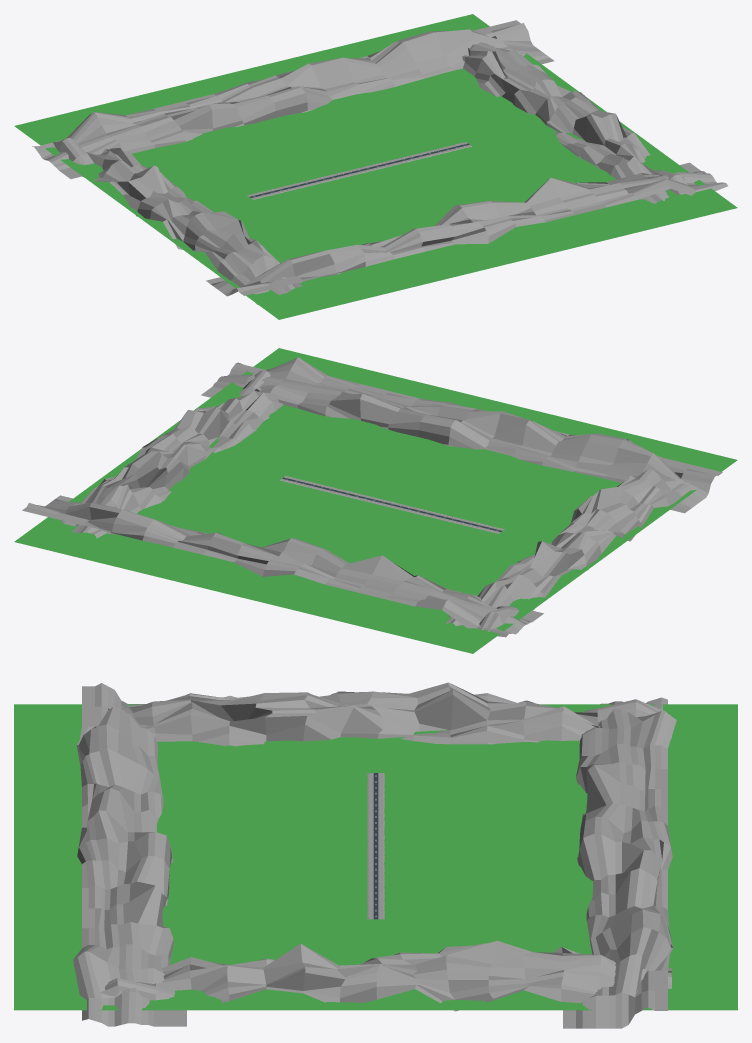
File: runway.glb
3 renders of one model, top to bottom at view 1: azimuth 30°, elevation 25°; view 2: azimuth 150°, elevation 25°; view 3: azimuth 270°, elevation 25°, orthographic. The views are drawn at different scales.
Parts seen in each view (by area): view 1: Grass, Rock2, Rock1, Rock3, Rock4, Runway; view 2: Grass, Rock1, Rock2, Rock4, Rock3, Runway; view 3: Grass, Rock1, Rock2, Rock4, Rock3, Runway.
Boxes of the visible parts, x1,y1,x2,y2 form: Grass: (14, 14, 737, 319); Rock2: (32, 20, 554, 178); Rock1: (206, 162, 727, 296); Rock3: (462, 42, 687, 203); Rock4: (51, 137, 302, 304); Runway: (247, 142, 471, 199); Grass: (14, 348, 737, 653); Rock1: (201, 357, 722, 513); Rock2: (22, 495, 543, 637); Rock4: (446, 469, 691, 631); Rock3: (60, 370, 283, 538); Runway: (280, 476, 504, 533); Grass: (14, 704, 737, 1010); Rock1: (73, 683, 186, 1026); Rock2: (563, 697, 676, 1028); Rock4: (120, 682, 671, 746); Rock3: (100, 940, 671, 1011); Runway: (367, 773, 384, 919).
Bounding box in the file's own units: 92.1 × 6.27 × 86.82.
Materials: 1 (1 with a texture image).
